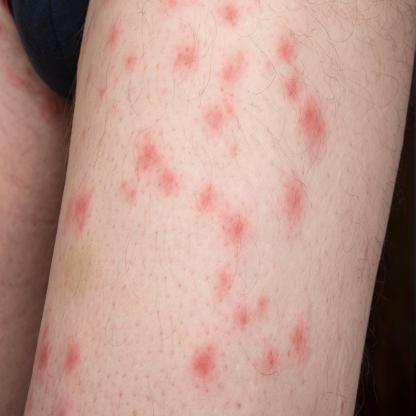Bed Bug: (170, 23, 210, 79), (196, 94, 245, 137), (284, 315, 316, 380), (186, 338, 225, 390), (278, 173, 309, 237), (297, 99, 329, 157), (63, 185, 96, 241), (222, 205, 251, 254), (127, 129, 160, 172), (215, 2, 261, 31), (219, 48, 251, 87), (252, 341, 282, 380), (36, 316, 53, 380), (193, 179, 219, 220), (273, 28, 304, 62), (6, 59, 32, 98), (40, 86, 61, 133), (206, 263, 234, 298), (146, 0, 208, 14), (116, 180, 139, 217), (61, 339, 80, 380), (156, 172, 181, 200), (103, 21, 127, 50), (226, 138, 246, 172), (226, 305, 254, 329), (279, 70, 300, 98), (256, 289, 270, 327), (119, 54, 143, 76), (84, 8, 96, 51), (76, 124, 96, 145), (96, 80, 112, 106), (53, 398, 75, 416), (23, 391, 43, 410), (156, 84, 176, 101), (82, 68, 91, 102), (0, 20, 8, 44)
